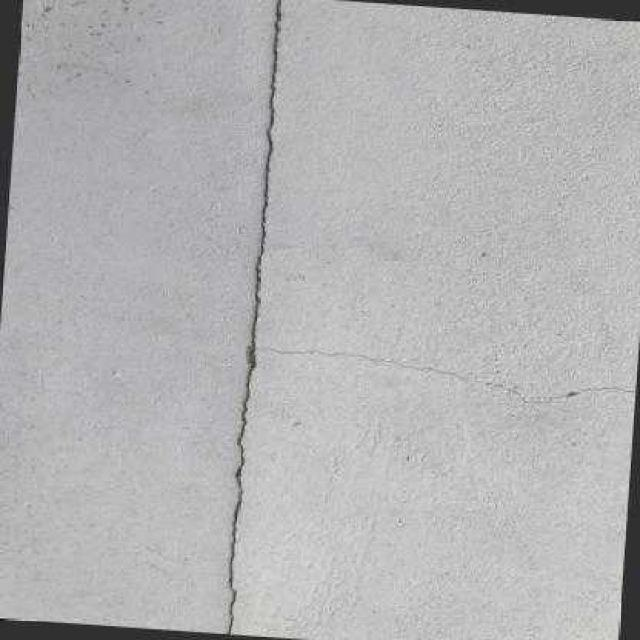D00: (223, 0, 287, 634), (260, 348, 636, 405)
